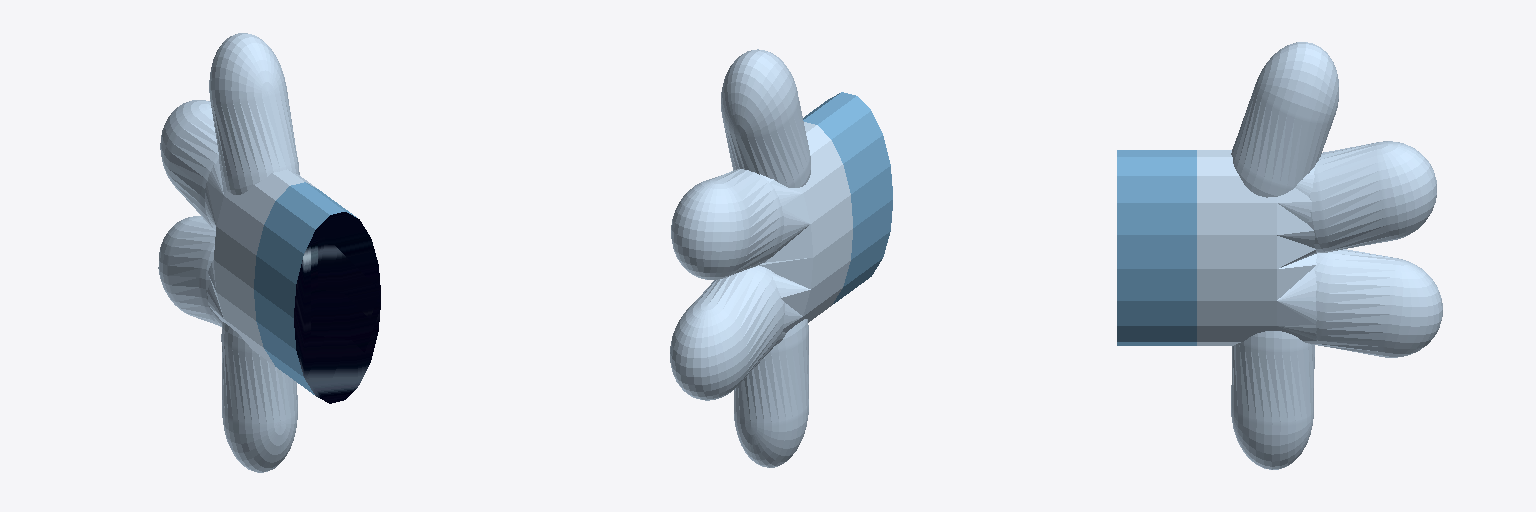
3 views of the same model, side by side, from view 1: azimuth 30°, elevation 25°; view 2: azimuth 150°, elevation 25°; view 3: azimuth 270°, elevation 25° (orthographic).
Visible parts, largest first — view 1: Cylinder011; view 2: Cylinder011; view 3: Cylinder011.
Part boxes in pixels (bbox=[...]): Cylinder011: bbox=[158, 33, 380, 472]; Cylinder011: bbox=[670, 49, 892, 467]; Cylinder011: bbox=[1117, 42, 1442, 469].
Bounding box in the file's own units: 6.07 × 28.02 × 19.53.
1 materials, 1 textured.